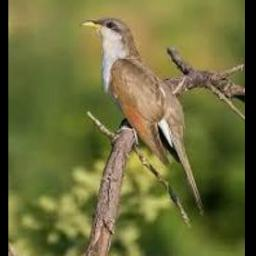Cuckoo: (80, 18, 203, 215)
